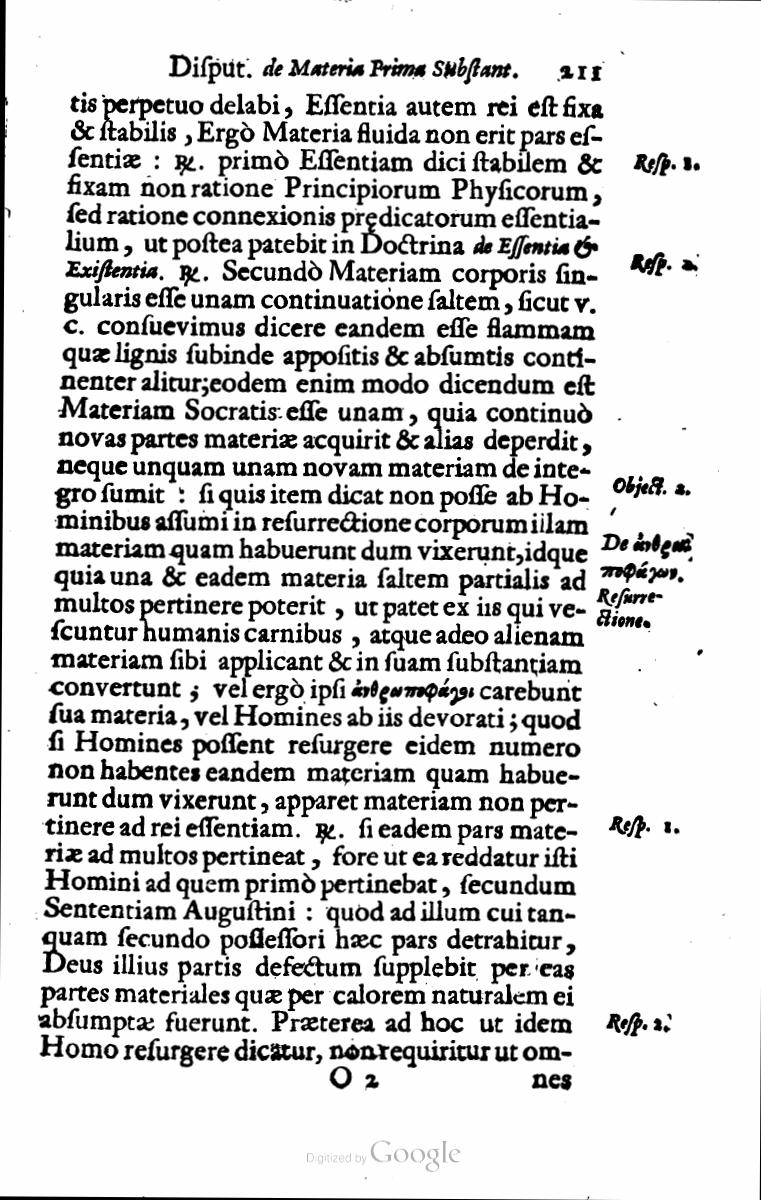catchword: (528, 1068, 575, 1095)
header: (167, 50, 522, 87)
page_num: (555, 62, 607, 85)
print_marg: (595, 530, 695, 632), (628, 247, 700, 278), (630, 147, 703, 177), (610, 472, 692, 498), (607, 812, 683, 840), (603, 1010, 672, 1038)
signature: (328, 1063, 380, 1093)
top_p: (37, 90, 605, 1067)
